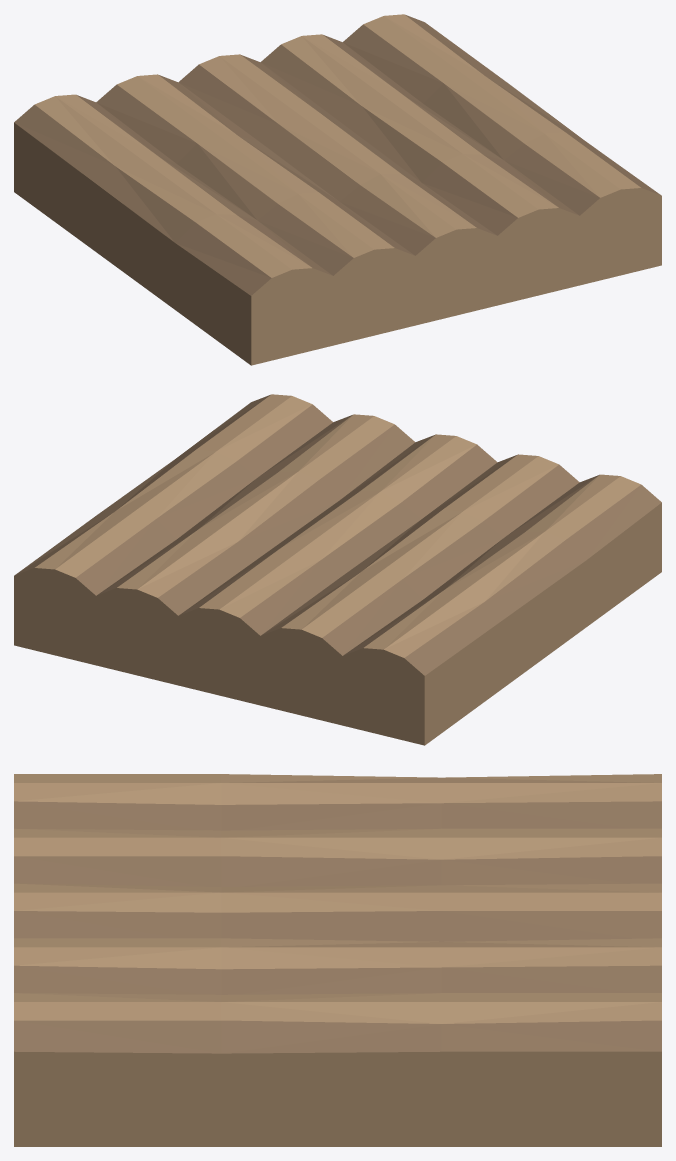
File: tile_soil.glb
The picture shows the model from 3 angles, top to bottom: view 1: azimuth 30°, elevation 25°; view 2: azimuth 150°, elevation 25°; view 3: azimuth 270°, elevation 25°; orthographic projection. The views are drawn at different scales.
Parts seen in each view (by area): view 1: tile_soil; view 2: tile_soil; view 3: tile_soil.
Part boxes in pixels (box(x1,y1,x2,y2)): tile_soil: box(14, 14, 661, 365); tile_soil: box(14, 394, 661, 745); tile_soil: box(14, 774, 661, 1146).
Bounding box in the file's own units: 1 × 0.2 × 1.
